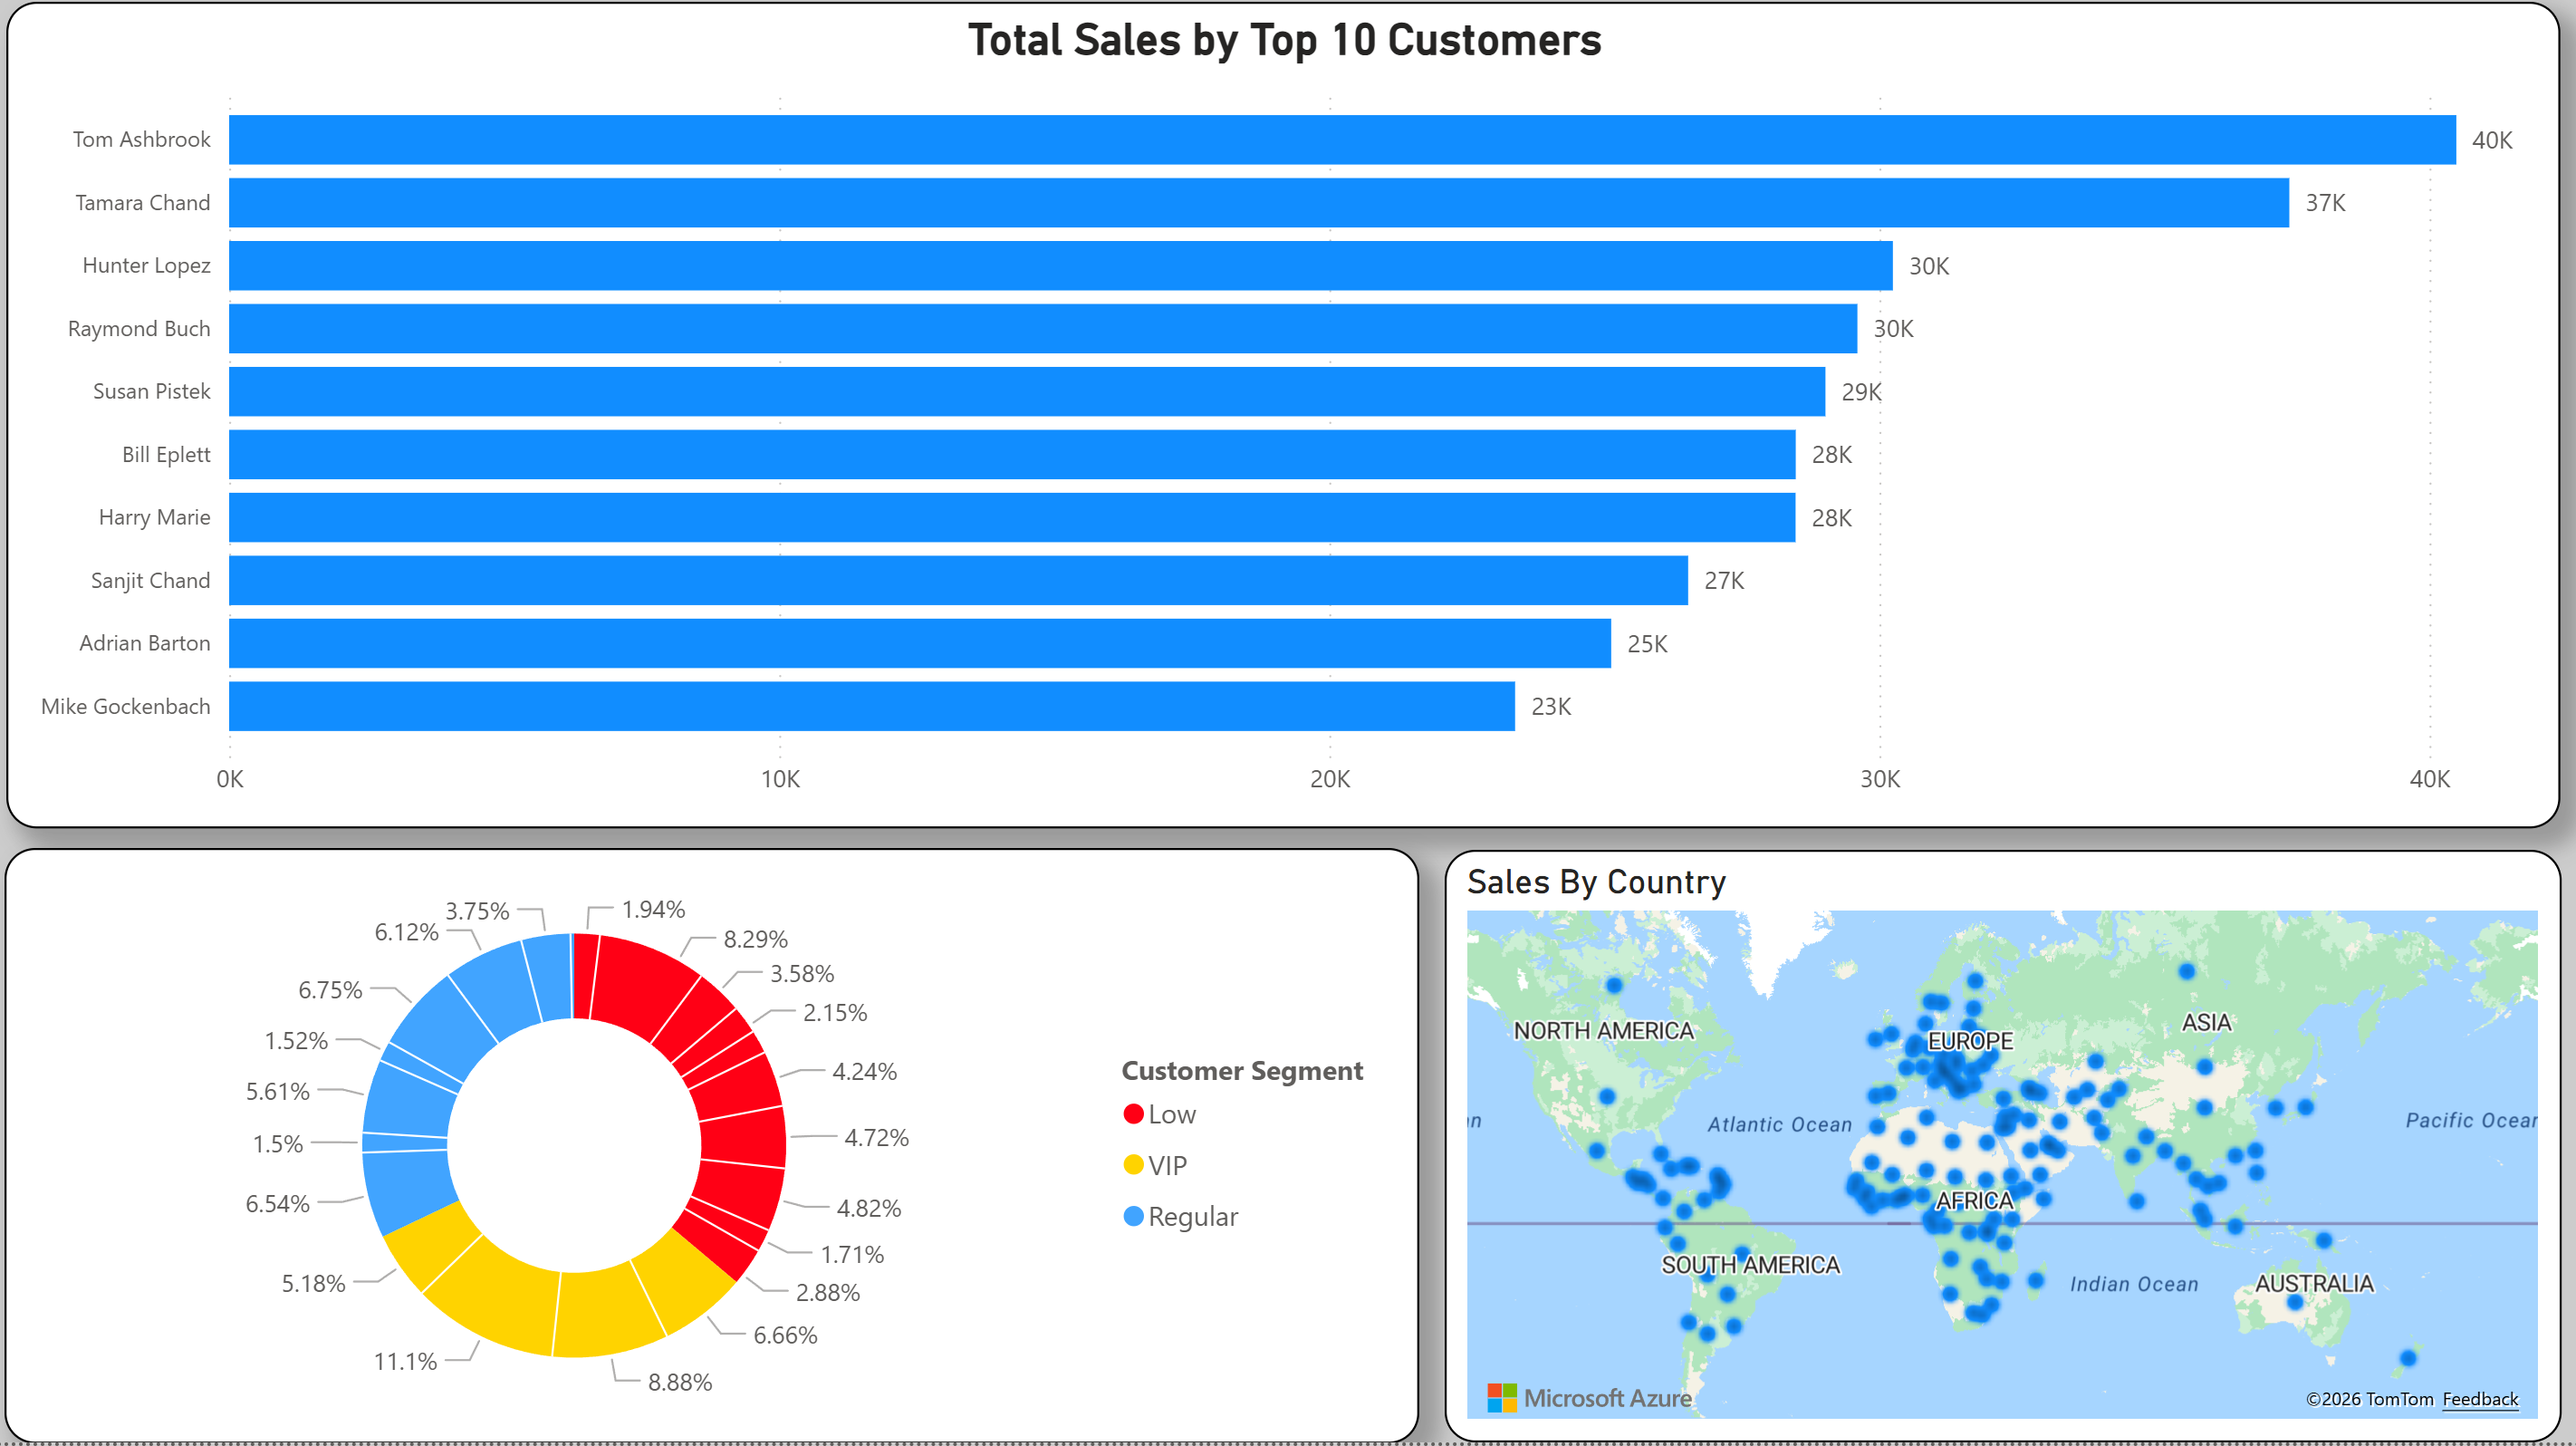

The page's visual inventory and layout, read from the dashboard file:
{"tool":"powerbi","page":{"name":"Customer Analysis","canvas":[1280,720],"ordinal":1},"visuals":[{"type":"barChart","fields":{"Category":["SuperStoreOrders - SuperStoreOr.customer_name"],"Y":["Sum(SuperStoreOrders - SuperStoreOr.profit)"]},"box":[10.1,9.1,1260.8,407.8],"z":0},{"type":"donutChart","fields":{"Category":["SuperStoreOrders - SuperStoreOr.Customer Segment"],"Series":["SuperStoreOrders - SuperStoreOr.customer_name"],"Y":["Sum(SuperStoreOrders - SuperStoreOr.profit)"]},"box":[9.1,427,698.5,293.8],"z":1000},{"type":"azureMap","fields":{"Category":["SuperStoreOrders - SuperStoreOr.country"]},"box":[719.7,427.3,551.3,292.4],"z":2000}]}

Visuals, with their boxes in screenshot pixels (x1, y1, x2, y2), scaled from the page's 1280x720 canvas onto the 2576x1446 screenshot:
barChart - SuperStoreOrders - SuperStoreOr.customer_name x Sum(SuperStoreOrders - SuperStoreOr.profit): region(20, 18, 2558, 837)
donutChart - SuperStoreOrders - SuperStoreOr.Customer Segment x SuperStoreOrders - SuperStoreOr.customer_name: region(18, 858, 1424, 1445)
azureMap - SuperStoreOrders - SuperStoreOr.country: region(1448, 858, 2558, 1445)
